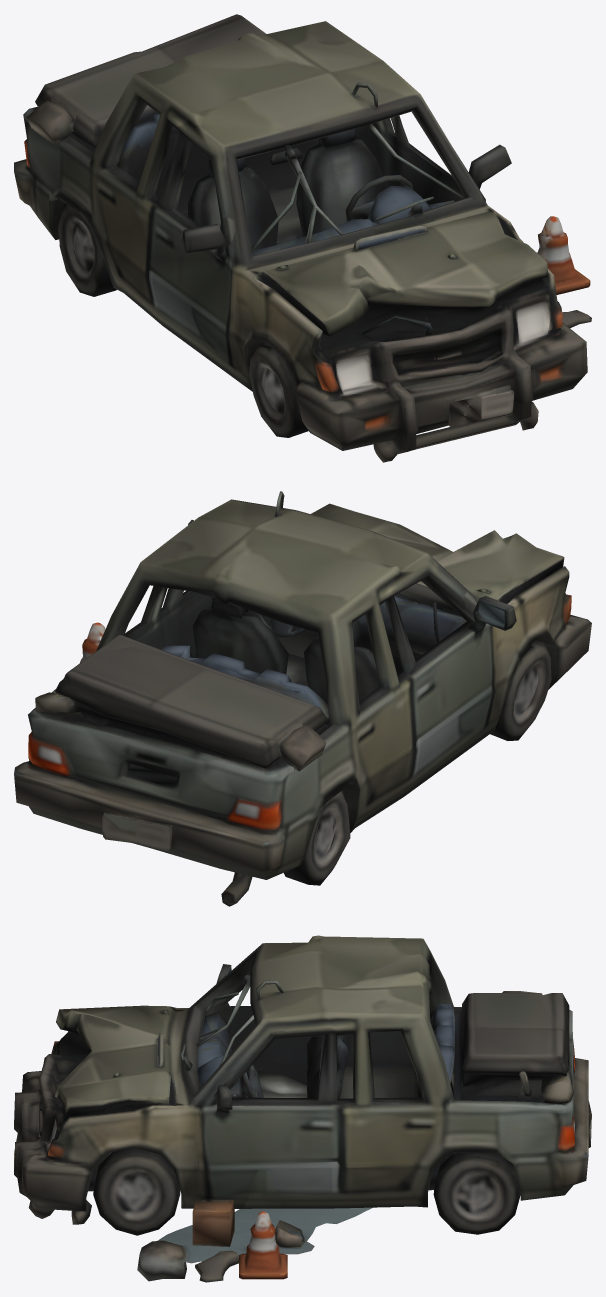
Rendered from SM_Vehicle_MilitaryPickup_01.fbx.
The picture shows the model from 3 angles, top to bottom: view 1: azimuth 30°, elevation 25°; view 2: azimuth 150°, elevation 25°; view 3: azimuth 270°, elevation 25°; orthographic projection. The views are drawn at different scales.
Visible parts, largest first — view 1: SM_Vehicle_MilitaryPickup_01; view 2: SM_Vehicle_MilitaryPickup_01; view 3: SM_Vehicle_MilitaryPickup_01.
Part boxes in pixels (left/top/right/bottom): SM_Vehicle_MilitaryPickup_01: left=14, top=14, right=591, bottom=462; SM_Vehicle_MilitaryPickup_01: left=14, top=491, right=591, bottom=906; SM_Vehicle_MilitaryPickup_01: left=14, top=935, right=591, bottom=1282.
Bounding box in the file's own units: 0.7207 × 0.459 × 0.998.
Materials: 1 (1 with a texture image).
